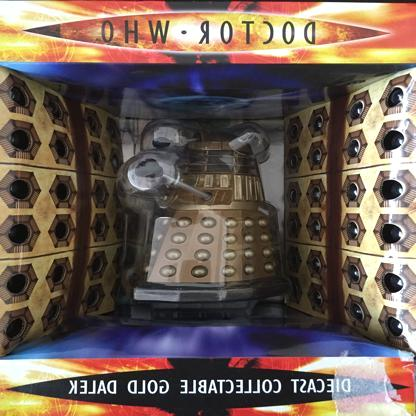dalek: (114, 107, 287, 328)
